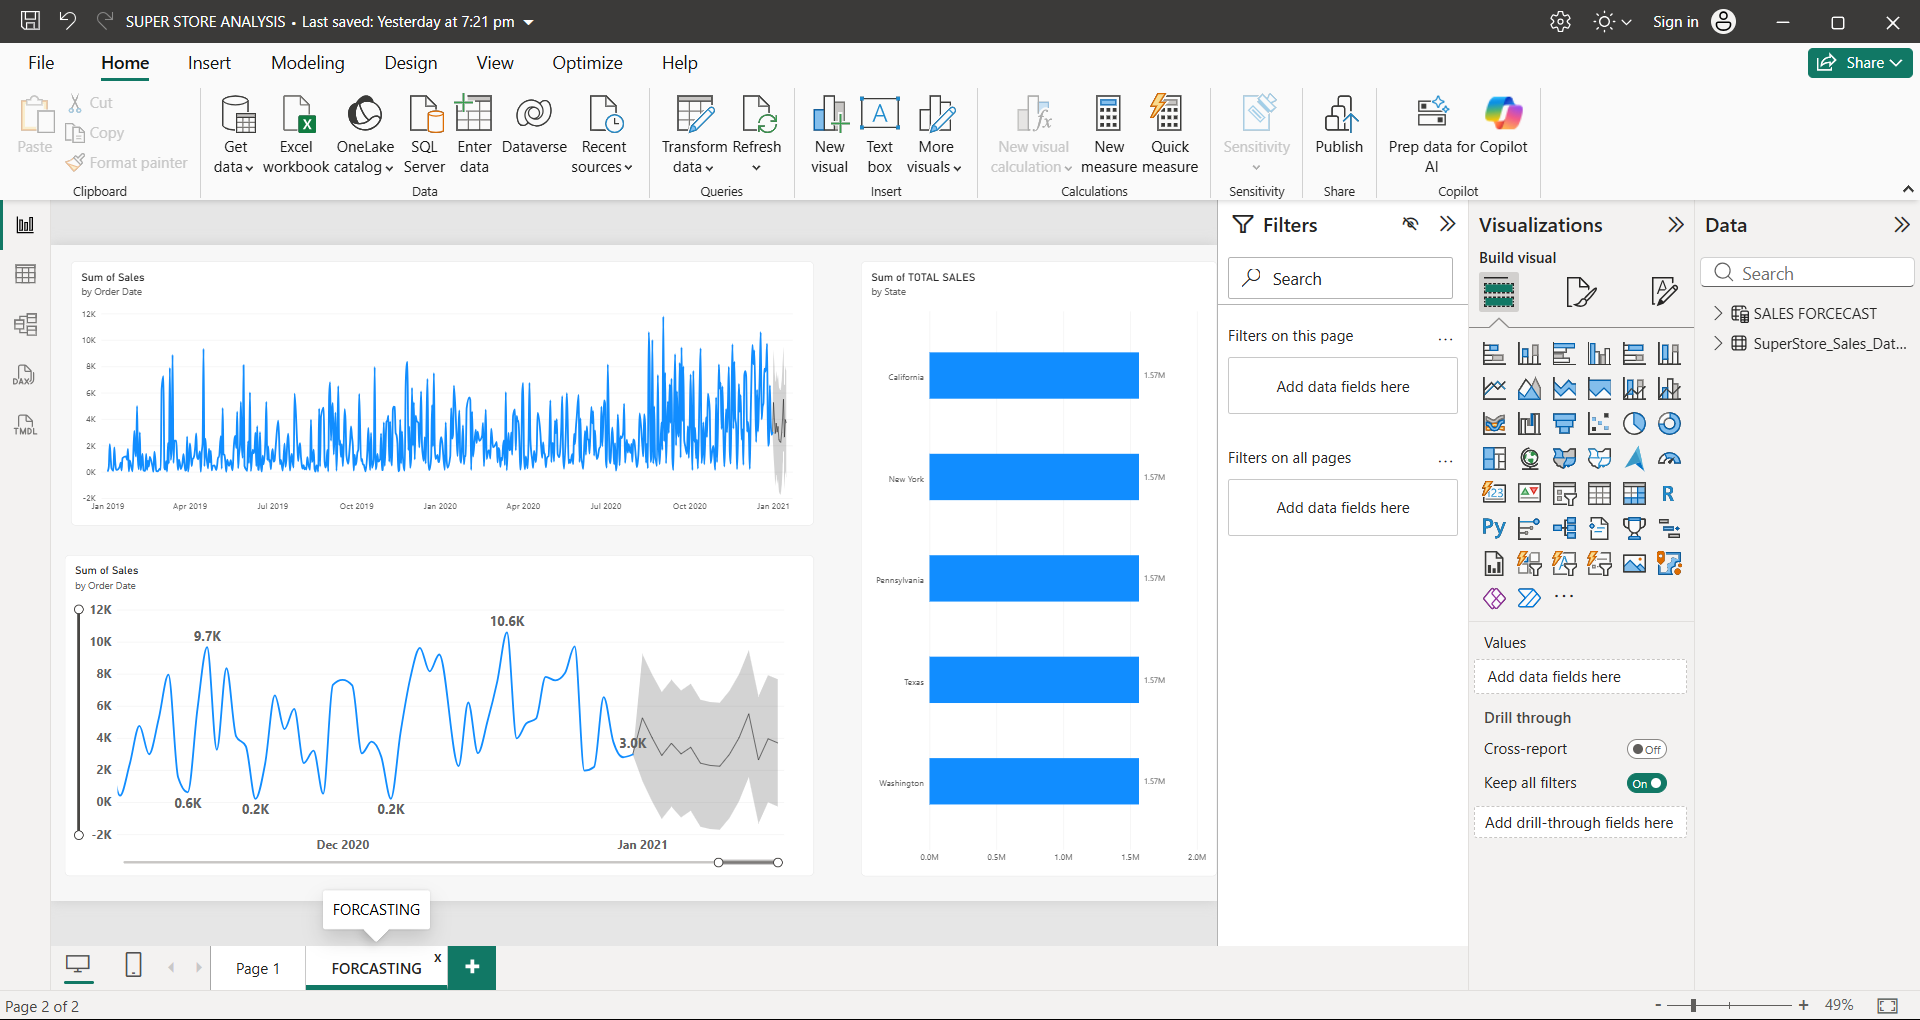

What the dashboard file says about the page in this screenshot:
{"tool":"powerbi","page":{"name":"FORCASTING","canvas":[1920,1080],"ordinal":1},"visuals":[{"type":"lineChart","fields":{"Category":["SuperStore_Sales_Dataset.Order Date"],"Y":["Sum(SuperStore_Sales_Dataset.Sales)"]},"box":[32.9,26.8,1222.9,435.4],"z":1000},{"type":"lineChart","fields":{"Category":["SuperStore_Sales_Dataset.Order Date"],"Y":["Sum(SuperStore_Sales_Dataset.Sales)"]},"box":[22.9,510.4,1233.3,529.2],"z":1001},{"type":"clusteredBarChart","fields":{"Category":["SuperStore_Sales_Dataset.State"],"Y":["Sum(SALES FORCECAST.TOTAL SALES)"]},"box":[1333.8,26.8,586.6,1012.7],"z":1002}]}

Visuals, with their boxes on the page's 1920x1080 design canvas (x1, y1, x2, y2). These are canvas units, not pixel positions in the 1920x1020 screenshot, which may show the page scaled, cropped or inside an application window:
lineChart - SuperStore_Sales_Dataset.Order Date x Sum(SuperStore_Sales_Dataset.Sales): 33 27 1256 462
lineChart - SuperStore_Sales_Dataset.Order Date x Sum(SuperStore_Sales_Dataset.Sales): 23 510 1256 1040
clusteredBarChart - SuperStore_Sales_Dataset.State x Sum(SALES FORCECAST.TOTAL SALES): 1334 27 1920 1040
